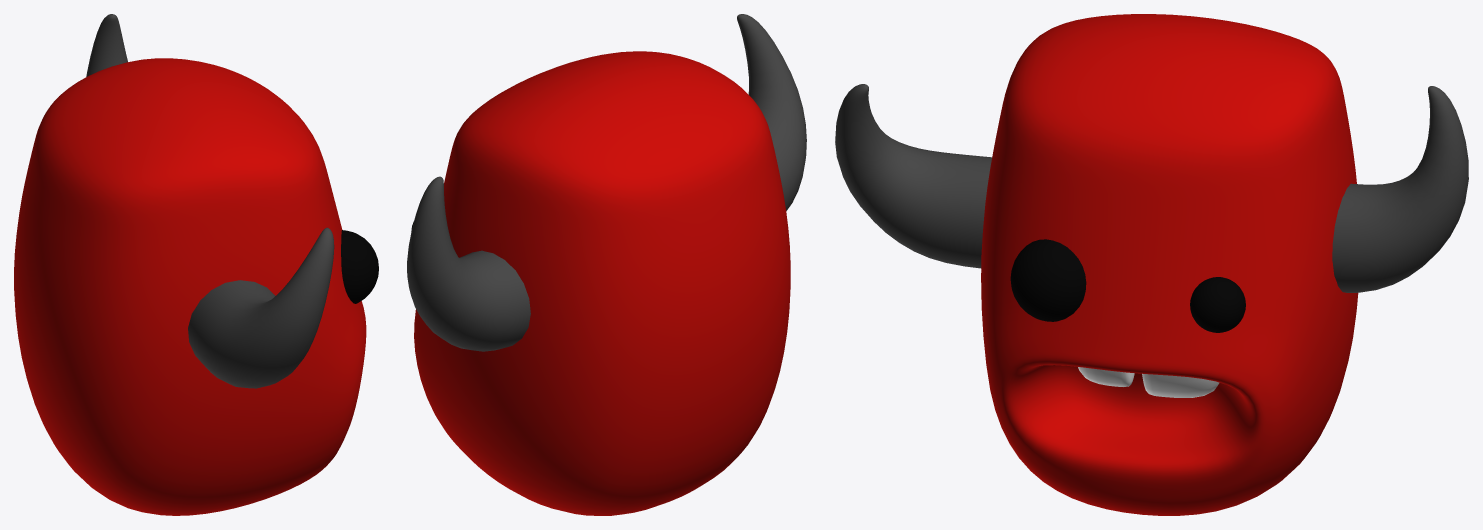
Rendered from MONSTR.fbx.
The picture shows the model from 3 angles, left to right: view 1: azimuth 30°, elevation 25°; view 2: azimuth 150°, elevation 25°; view 3: azimuth 270°, elevation 25°; orthographic projection. The views are drawn at different scales.
Parts seen in each view (by area): view 1: Cube, Cylinder, Sphere.001; view 2: Cube, Cylinder; view 3: Cube, Cylinder, Sphere.001, Sphere, Cube.001, Cube.002.
Boxes of the visible parts, left/top/right/bottom form: Cube: left=14, top=58, right=366, bottom=515; Cylinder: left=86, top=14, right=334, bottom=388; Sphere.001: left=341, top=230, right=378, bottom=303; Cube: left=414, top=51, right=790, bottom=515; Cylinder: left=407, top=14, right=806, bottom=351; Cube: left=981, top=14, right=1358, bottom=515; Cylinder: left=835, top=84, right=1468, bottom=292; Sphere.001: left=1010, top=239, right=1086, bottom=321; Sphere: left=1190, top=277, right=1245, bottom=332; Cube.001: left=1142, top=373, right=1219, bottom=397; Cube.002: left=1078, top=367, right=1134, bottom=386.
Bounding box in the file's own units: 47.11 × 57.89 × 74.11.
